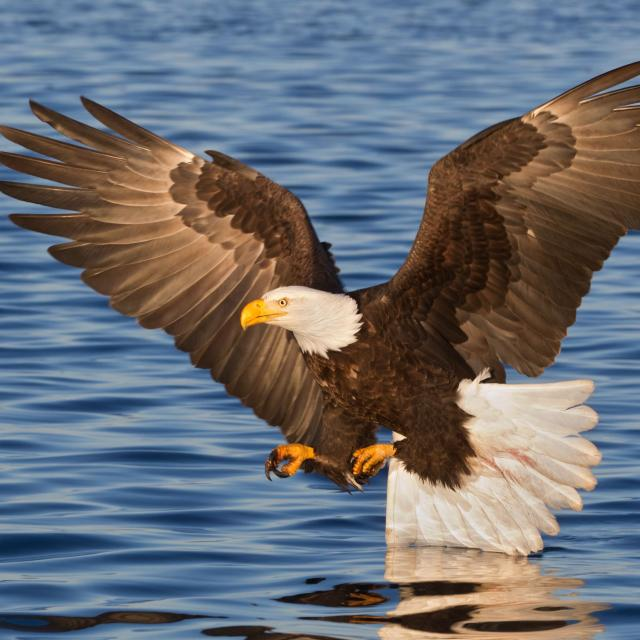Eagle: (5, 57, 635, 546)
